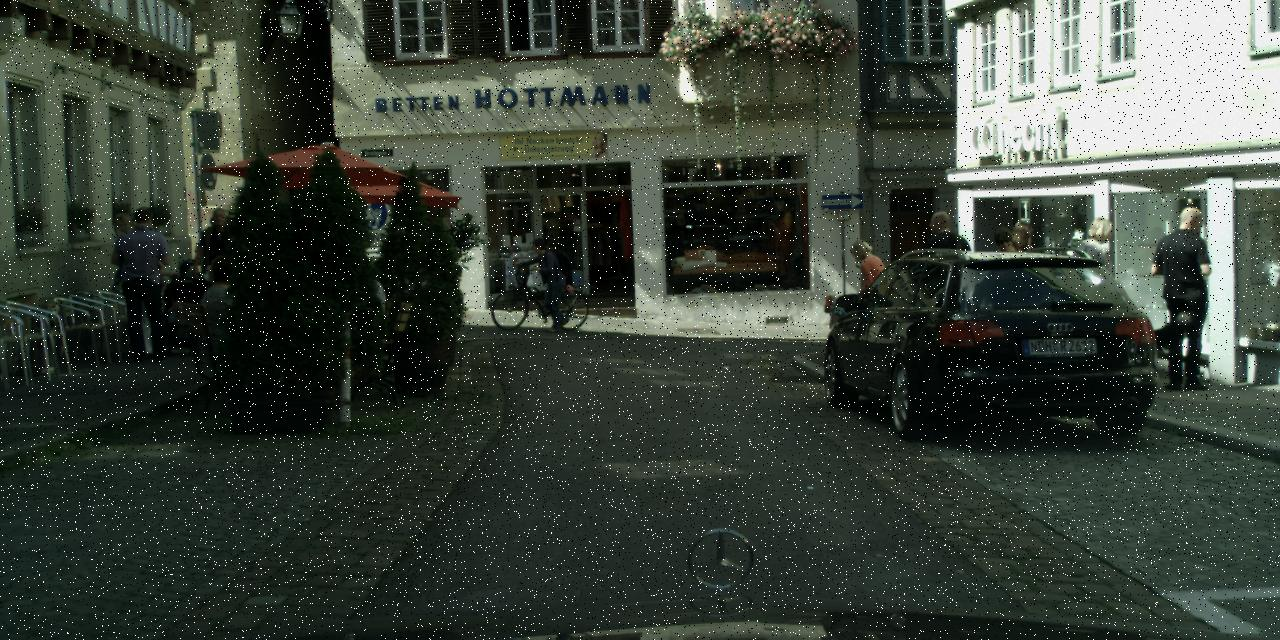ped: (1150, 206, 1224, 390), (115, 207, 177, 359), (910, 210, 972, 362), (1064, 218, 1124, 364), (103, 214, 162, 358), (991, 222, 1047, 360), (978, 227, 1034, 364), (843, 239, 891, 357), (193, 206, 240, 321), (531, 238, 568, 328)
